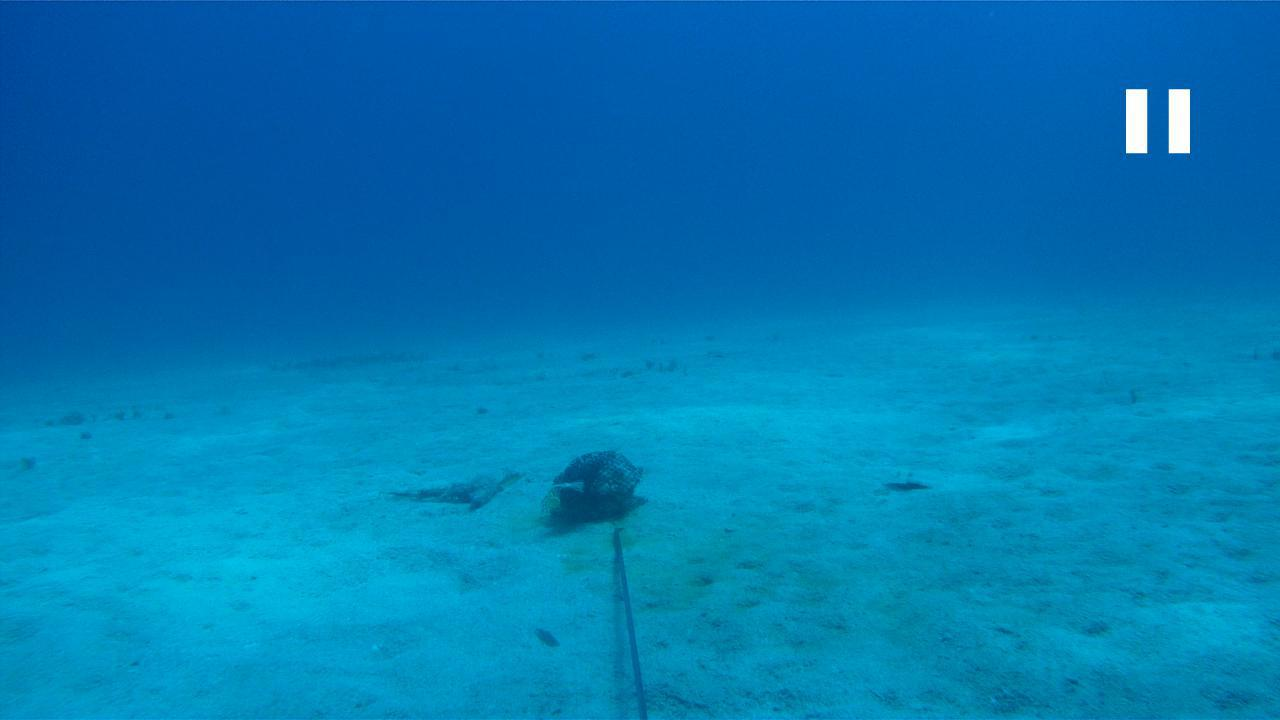bothus: (878, 465, 935, 490)
